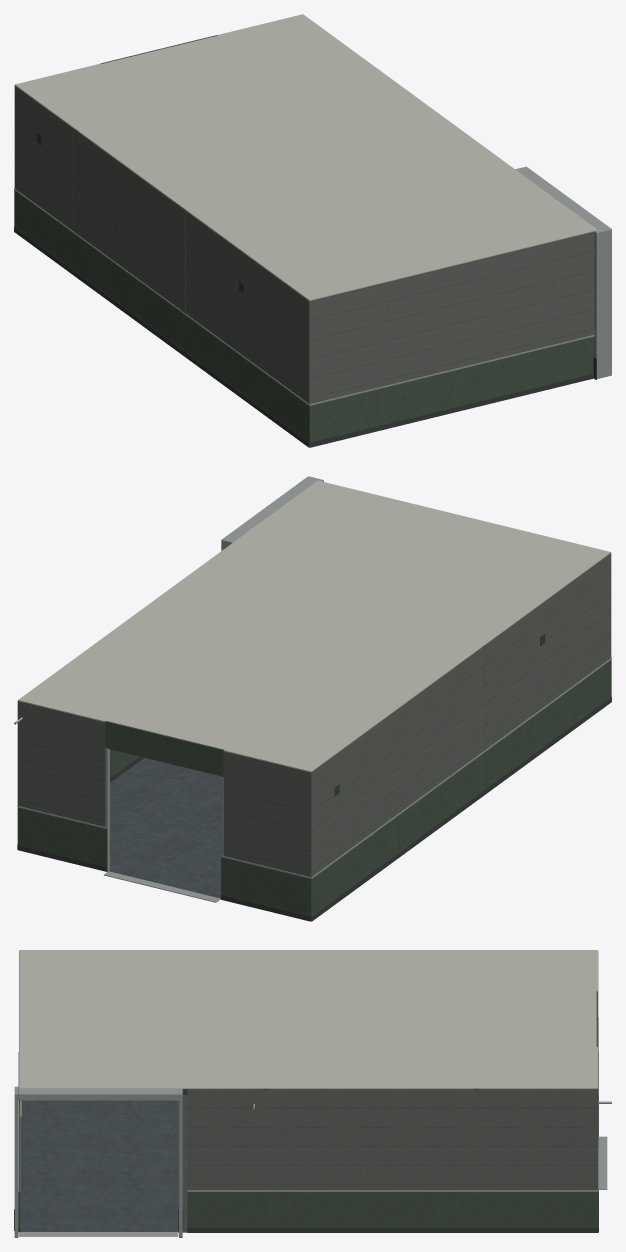
The model's file is service_hall_lining.glb.
3 renders of one model, top to bottom at view 1: azimuth 30°, elevation 25°; view 2: azimuth 150°, elevation 25°; view 3: azimuth 270°, elevation 25°, orthographic. The views are drawn at different scales.
Parts seen in each view (by area): view 1: service_hall_lining / bay_ceiling_ivory, service_hall_lining / transfer_quiet_concrete, service_hall_lining / transfer_green_enamel, service_hall_lining / transfer_galvanized, service_hall_lining / transfer_dark_steel; view 2: service_hall_lining / bay_ceiling_ivory, service_hall_lining / transfer_quiet_concrete, service_hall_lining / transfer_green_enamel, service_hall_lining / bay_bluegray_floor, service_hall_lining / transfer_galvanized, service_hall_lining / transfer_dark_steel; view 3: service_hall_lining / bay_ceiling_ivory, service_hall_lining / transfer_quiet_concrete, service_hall_lining / bay_bluegray_floor, service_hall_lining / transfer_green_enamel, service_hall_lining / transfer_galvanized, service_hall_lining / transfer_dark_steel.
Boxes of the visible parts, x1,y1,x2,y2 form: service_hall_lining / bay_ceiling_ivory: [14, 14, 597, 300]; service_hall_lining / transfer_quiet_concrete: [14, 85, 594, 404]; service_hall_lining / transfer_green_enamel: [14, 35, 594, 442]; service_hall_lining / transfer_galvanized: [14, 166, 611, 405]; service_hall_lining / transfer_dark_steel: [14, 133, 596, 447]; service_hall_lining / bay_ceiling_ivory: [18, 480, 611, 772]; service_hall_lining / transfer_quiet_concrete: [17, 553, 611, 878]; service_hall_lining / transfer_green_enamel: [17, 645, 611, 918]; service_hall_lining / bay_bluegray_floor: [108, 757, 220, 898]; service_hall_lining / transfer_galvanized: [14, 476, 611, 902]; service_hall_lining / transfer_dark_steel: [17, 633, 611, 921]; service_hall_lining / bay_ceiling_ivory: [19, 950, 597, 1088]; service_hall_lining / transfer_quiet_concrete: [19, 951, 598, 1191]; service_hall_lining / bay_bluegray_floor: [20, 1094, 187, 1232]; service_hall_lining / transfer_green_enamel: [18, 991, 598, 1228]; service_hall_lining / transfer_galvanized: [14, 1017, 611, 1237]; service_hall_lining / transfer_dark_steel: [14, 1090, 598, 1232].
Bounding box in the file's own units: 8.12 × 3.8 × 14.24.
7 materials, 3 textured.
